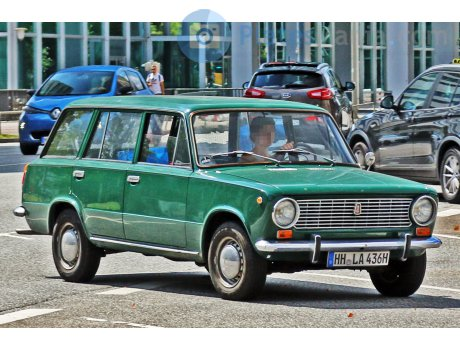License Plates: (336, 251, 388, 261)
